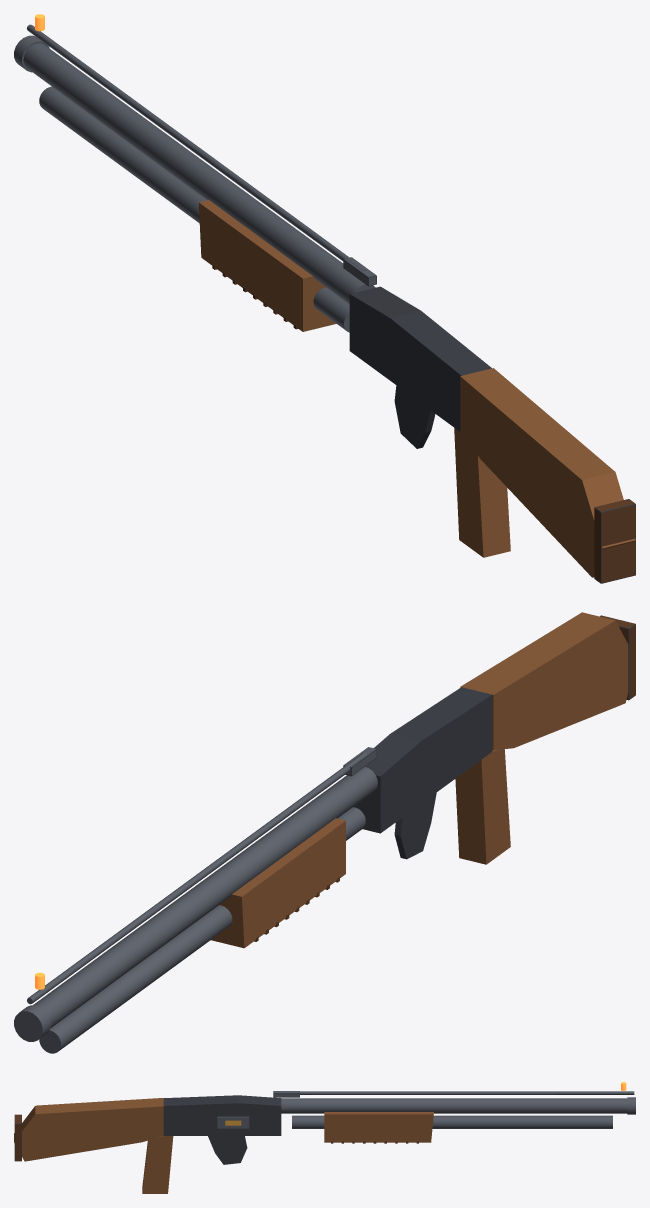
File: shotgun.glb
3 views of the same model, one above another, from view 1: azimuth 30°, elevation 25°; view 2: azimuth 150°, elevation 25°; view 3: azimuth 270°, elevation 25° (orthographic). The views are drawn at different scales.
Parts seen in each view (by area): view 1: body, pump; view 2: body, pump; view 3: body, pump, shell_gate.
Part boxes in pixels (<box>): body: <box>14,14,635,583</box>; pump: <box>198,200,336,331</box>; body: <box>14,612,635,1053</box>; pump: <box>211,818,345,948</box>; body: <box>14,1082,635,1193</box>; pump: <box>324,1112,433,1143</box>; shell_gate: <box>217,1116,249,1128</box>.
Size of the model in its own units: 0.05 by 0.221 by 1.16.
